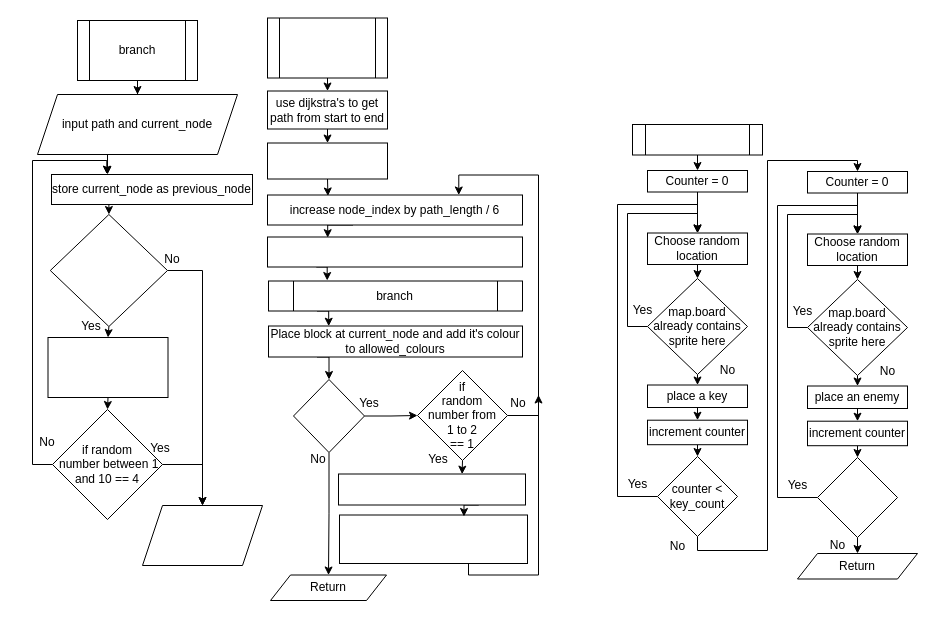
The diagram is 935 pixels wide and 618 high, and some of its shapes have lost their labels. Here are the shapes that lost their labels. From the top down, the box of each, then its label:
(266, 17, 388, 78): populate_maze
(632, 124, 762, 155): Place other sprites
(266, 142, 388, 179): initialise node_index to path_length / 12
(49, 214, 168, 326): if there are neighbours not in previous_node or path
(266, 236, 522, 267): select current node from path at index node_index + random number from -4 to 4
(47, 336, 168, 398): set current_node to a random neighbour that isn't previous node or in path
(292, 378, 364, 452): more nodes left ?
(338, 473, 526, 505): set current node to next node along path
(816, 456, 898, 538): counter < enemy count
(142, 504, 262, 566): Return current_node
(338, 514, 528, 564): place a gateway at current_node and add that gateway's colour to allowed_colours
